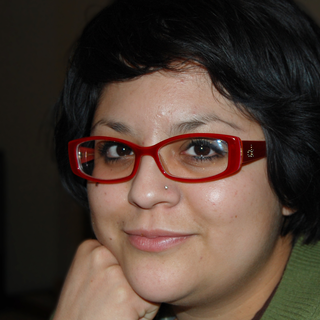eye: (180, 139, 226, 163), (95, 139, 133, 163)
